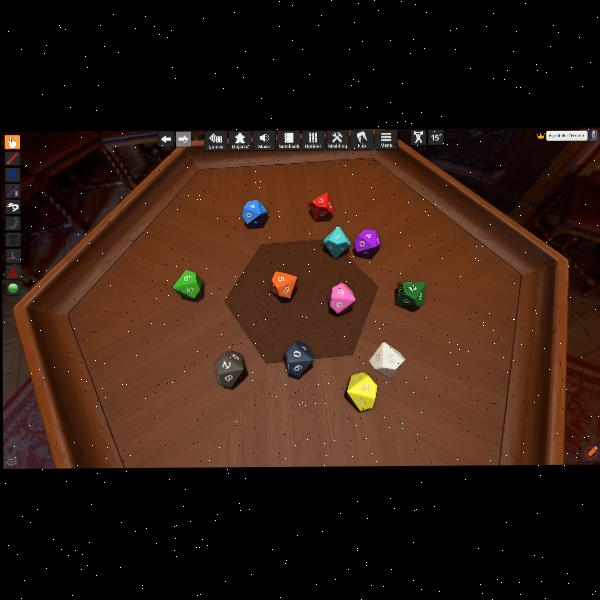d10: (345, 371, 377, 411), (370, 341, 403, 376), (215, 351, 245, 388), (393, 279, 428, 309), (285, 341, 313, 376), (173, 270, 204, 300), (323, 225, 351, 258), (328, 281, 355, 314), (241, 200, 268, 229), (353, 229, 380, 258), (271, 270, 297, 298), (308, 192, 333, 221)
